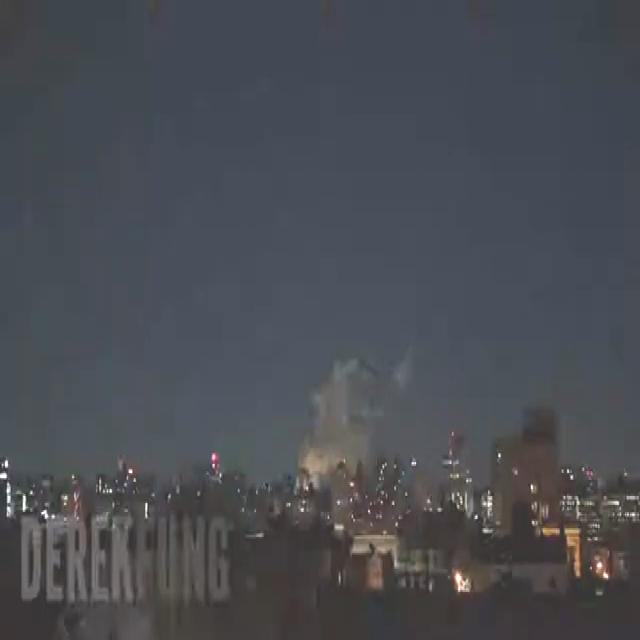smoke: (298, 348, 411, 478)
